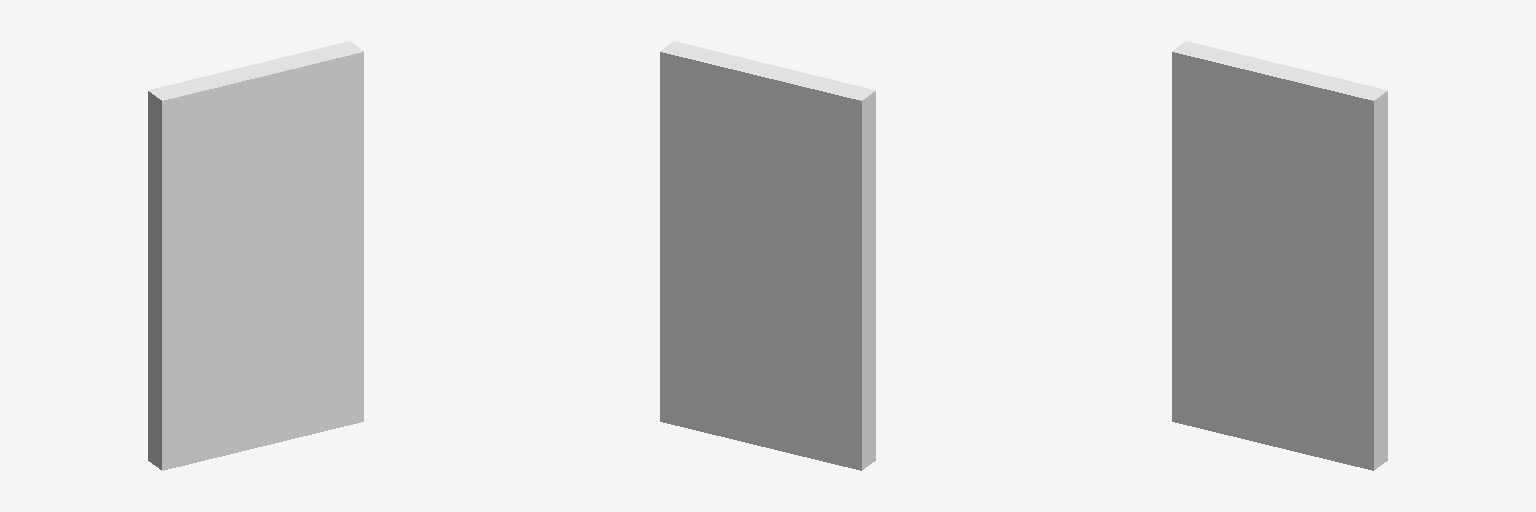
3 renders of one model, left to right at view 1: azimuth 30°, elevation 25°; view 2: azimuth 150°, elevation 25°; view 3: azimuth 330°, elevation 25°, orthographic.
Parts seen in each view (by area): view 1: object 1; view 2: object 1; view 3: object 1.
Boxes of the visible parts, x1=… form: object 1: x1=148, y1=41, x2=363, y2=470; object 1: x1=660, y1=41, x2=875, y2=470; object 1: x1=1172, y1=41, x2=1387, y2=470.
Bounding box in the file's own units: 0.8 × 1.4 × 0.1.
Materials: 1 (1 with a texture image).